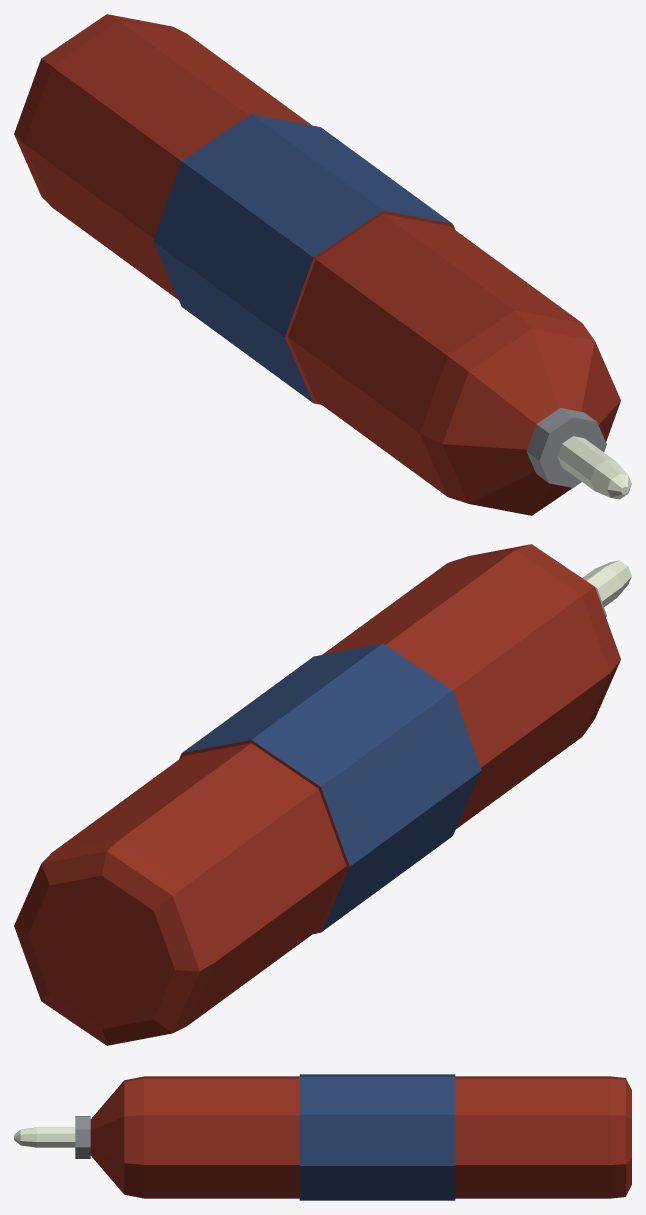
File: crema batida.fbx
3 views of the same model, one above another, from view 1: azimuth 30°, elevation 25°; view 2: azimuth 150°, elevation 25°; view 3: azimuth 270°, elevation 25° (orthographic). The views are drawn at different scales.
Parts seen in each view (by area): view 1: crema batida, boquilla; view 2: crema batida, boquilla; view 3: crema batida, boquilla.
Part boxes in pixels (x1,y1,x2,y2): crema batida: (14,14,620,515); boquilla: (557,436,631,499); crema batida: (14,544,620,1045); boquilla: (582,560,631,606); crema batida: (75,1074,631,1200); boquilla: (14,1127,75,1147).
Size of the model in its own units: 6.2 by 6.2 by 28.54.
